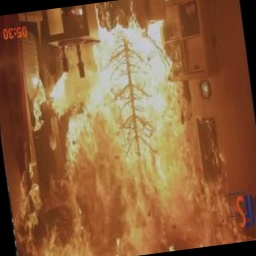fire: (0, 8, 256, 256)
